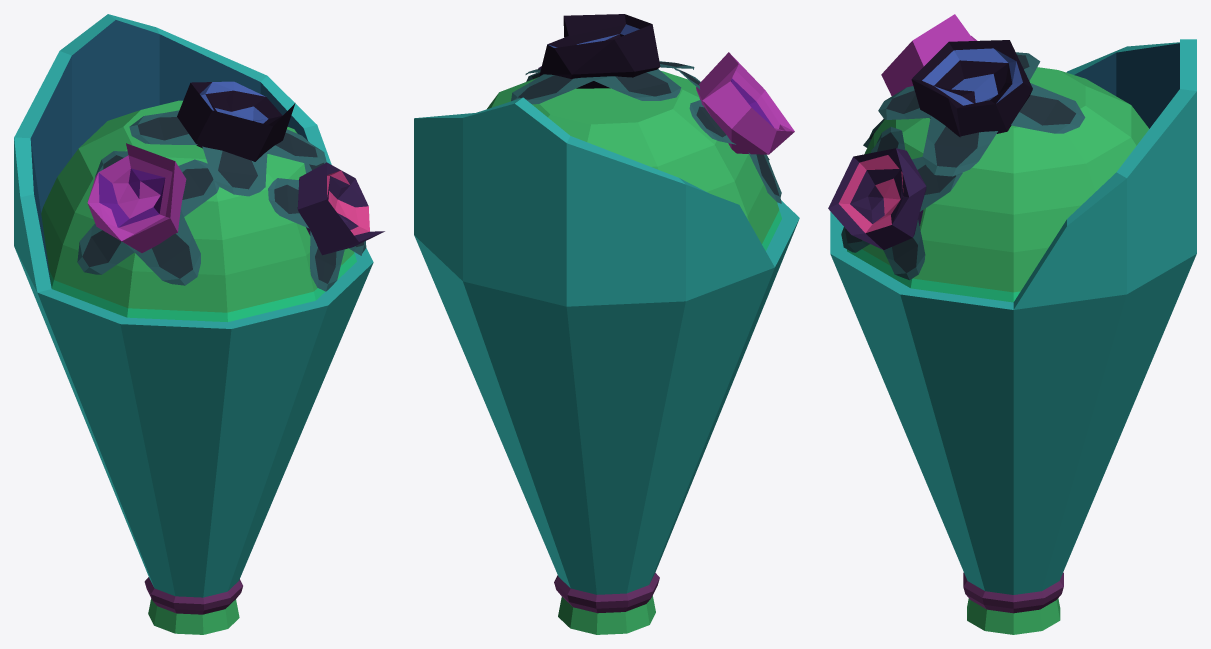
File: Bouquet.fbx
The picture shows the model from 3 angles, left to right: view 1: azimuth 30°, elevation 25°; view 2: azimuth 150°, elevation 25°; view 3: azimuth 270°, elevation 25°; orthographic projection. The views are drawn at different scales.
Visible parts, largest first — view 1: bouquet; view 2: bouquet; view 3: bouquet.
Part boxes in pixels (x1=…): bouquet: x1=14, y1=14, x2=384, y2=634; bouquet: x1=414, y1=14, x2=799, y2=634; bouquet: x1=828, y1=14, x2=1196, y2=634.
Bounding box in the file's own units: 49.57 × 81.55 × 47.41.
